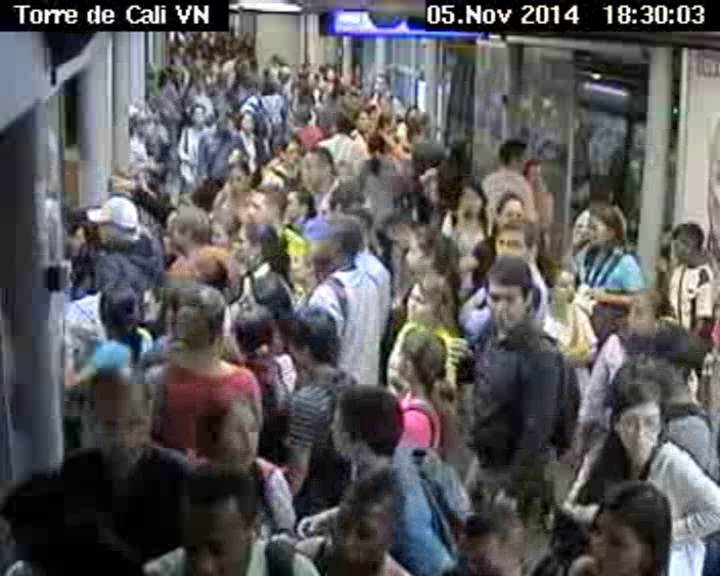person: (172, 463, 275, 576), (572, 472, 677, 576), (75, 361, 162, 470), (325, 472, 406, 575), (321, 382, 411, 474), (185, 386, 272, 468), (629, 318, 710, 405), (445, 507, 542, 576), (163, 279, 236, 365), (603, 375, 671, 465), (387, 323, 455, 397), (283, 300, 350, 375), (481, 256, 541, 337), (96, 278, 149, 346), (82, 193, 150, 246), (225, 302, 281, 365), (167, 205, 224, 264), (401, 224, 454, 283), (401, 273, 456, 329), (317, 216, 366, 274), (617, 284, 678, 328), (231, 215, 281, 268), (492, 216, 542, 265), (244, 183, 292, 230), (447, 174, 488, 223), (296, 145, 339, 191), (289, 242, 332, 287), (544, 261, 581, 313), (589, 203, 628, 252), (325, 183, 375, 221), (667, 217, 706, 265), (490, 188, 531, 229), (496, 137, 535, 175), (225, 157, 256, 199), (203, 211, 238, 247), (277, 133, 306, 164), (185, 101, 210, 126), (289, 104, 315, 127), (354, 105, 373, 133), (364, 135, 388, 156), (376, 93, 396, 118), (259, 66, 284, 85), (237, 110, 255, 135), (373, 72, 391, 93), (216, 108, 230, 130)
